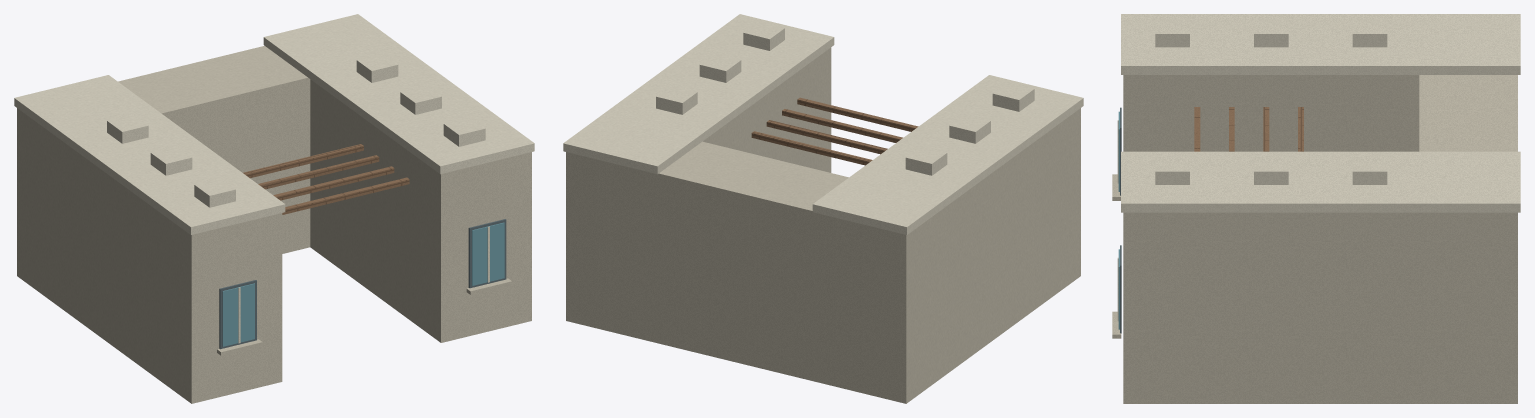
The model's file is courtyard-house.glb.
3 renders of one model, left to right at view 1: azimuth 30°, elevation 25°; view 2: azimuth 150°, elevation 25°; view 3: azimuth 270°, elevation 25°, orthographic. The views are drawn at different scales.
Bounding box in the file's own units: 9.1 × 4.8 × 8.27.
5 materials, 4 textured.
